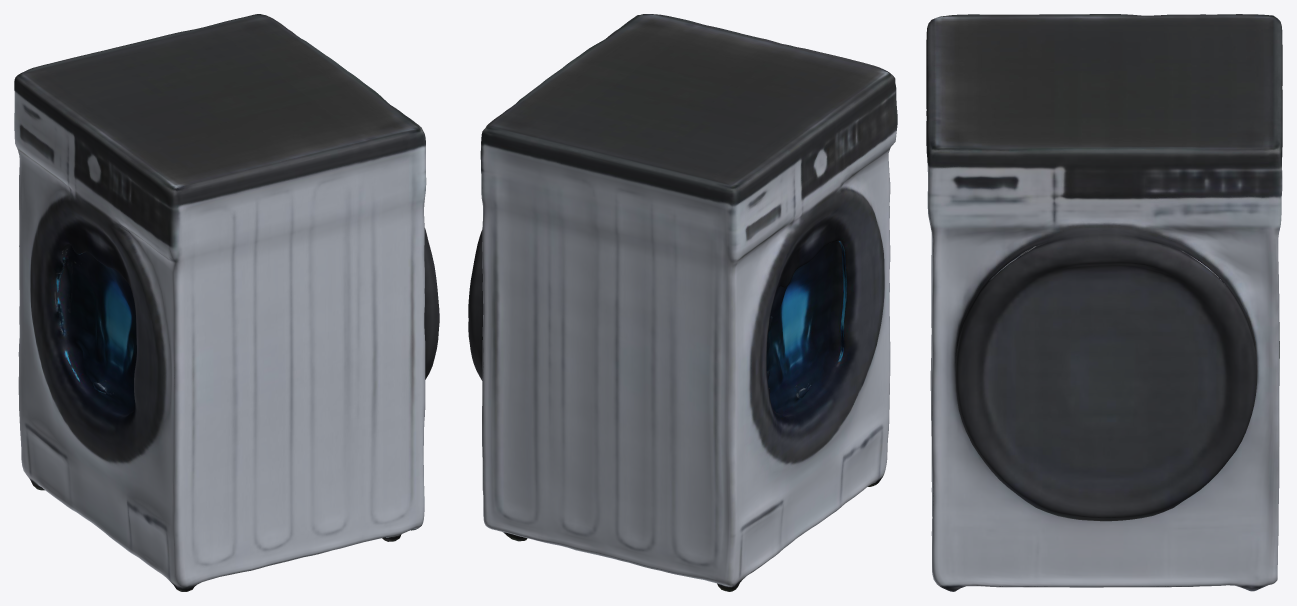
Rendered from machine.glb.
3 renders of one model, left to right at view 1: azimuth 30°, elevation 25°; view 2: azimuth 150°, elevation 25°; view 3: azimuth 270°, elevation 25°, orthographic. The views are drawn at different scales.
Visible parts, largest first — view 1: mesh; view 2: mesh; view 3: mesh.
Part boxes in pixels (left/top/right/bottom): mesh: left=14, top=14, right=439, bottom=591; mesh: left=468, top=14, right=897, bottom=591; mesh: left=926, top=14, right=1282, bottom=591.
Bounding box in the file's own units: 0.7187 × 0.999 × 0.7151.
1 material, 1 textured.
